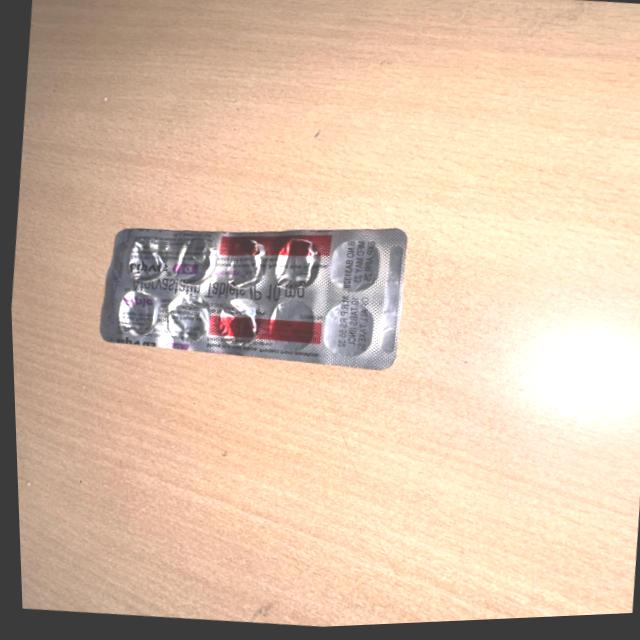medicine: (87, 207, 432, 391)
